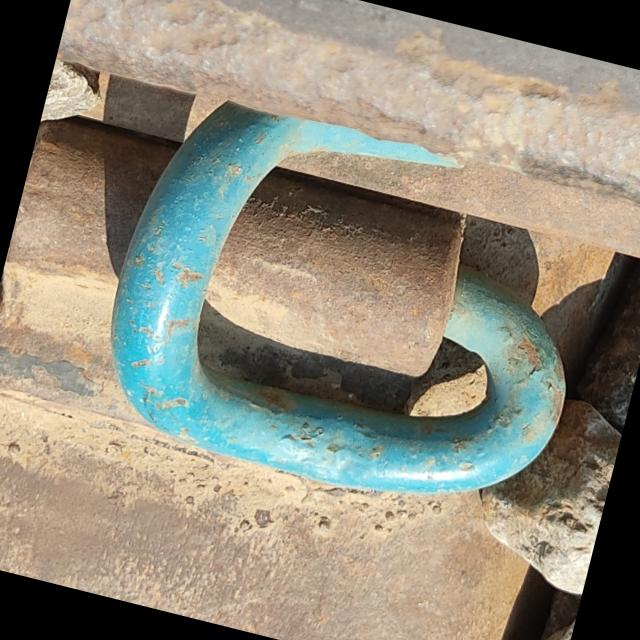track_bolt: (76, 89, 620, 542)
